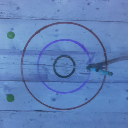Axe Tip: (90, 65, 102, 68)
